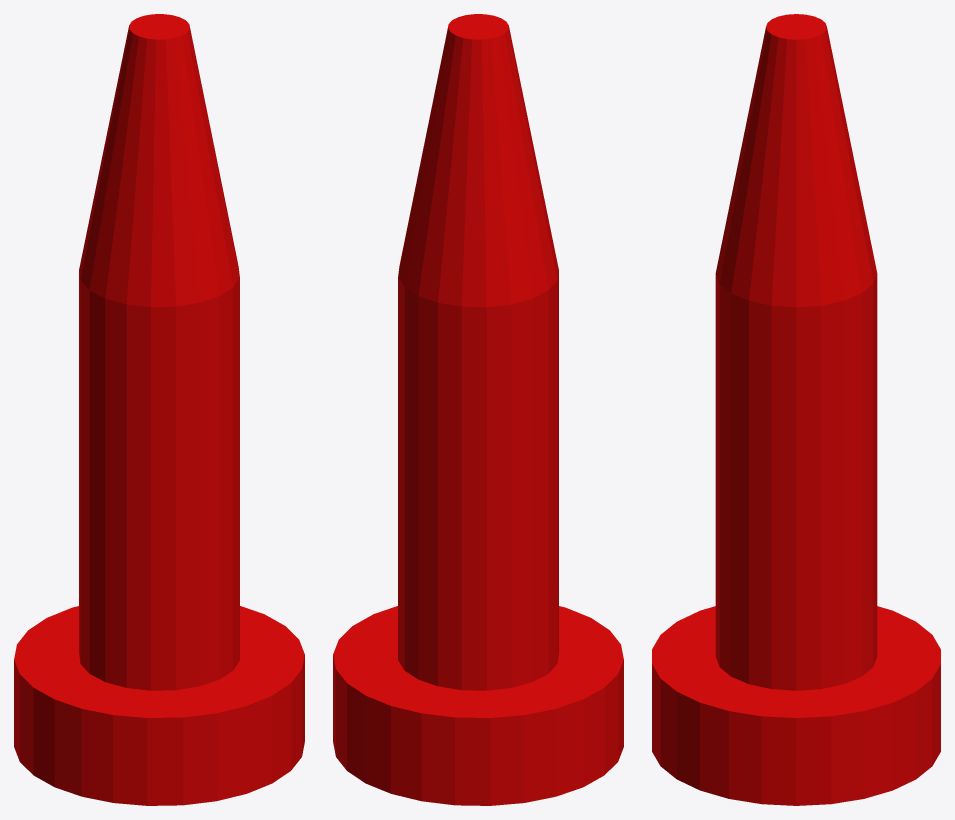
File: red_marker_nun.dae
3 renders of one model, left to right at view 1: azimuth 30°, elevation 25°; view 2: azimuth 150°, elevation 25°; view 3: azimuth 270°, elevation 25°, orthographic.
Parts seen in each view (by area): view 1: ShapeIndexedFaceSet_001; view 2: ShapeIndexedFaceSet_001; view 3: ShapeIndexedFaceSet_001.
Boxes of the visible parts, x1=… form: ShapeIndexedFaceSet_001: x1=14, y1=14, x2=304, y2=805; ShapeIndexedFaceSet_001: x1=333, y1=14, x2=623, y2=805; ShapeIndexedFaceSet_001: x1=652, y1=14, x2=940, y2=805.
Size of the model in its own units: 0.4572 by 0.4539 by 1.24.
